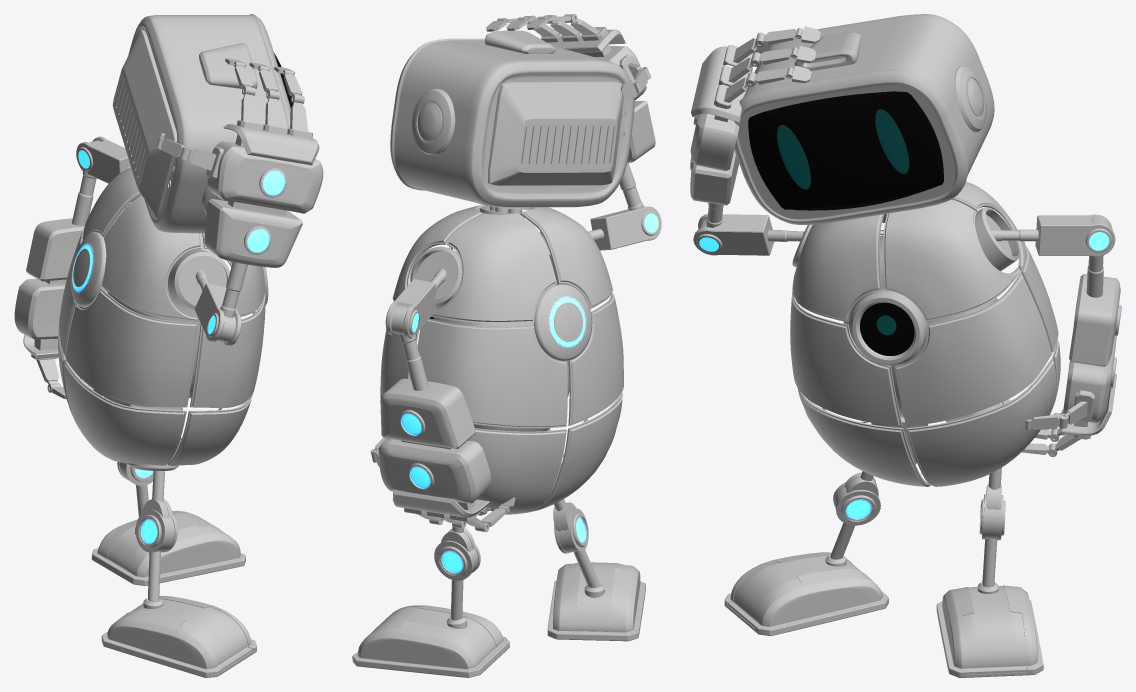
3 renders of one model, left to right at view 1: azimuth 30°, elevation 25°; view 2: azimuth 150°, elevation 25°; view 3: azimuth 270°, elevation 25°, orthographic. The views are drawn at different scales.
Parts seen in each view (by area): view 1: bodyMid, headchassis, bodyTop, bodyBottom, foot_R, headBack, foot_L, palm2_R, palm1_R, palm1_L, palm2_L, shoulder_R (+14 smaller); view 2: headchassis, bodyMid, bodyTop, headBack, bodyBottom, foot_L, foot_R, palm2_L, palm1_L, backDisk, ear_L, elbow_L (+16 smaller); view 3: bodyMid, headchassis, bodyTop, screenFace, screenBack, bodyBottom, foot_R, foot_L, chestScreen, palm1_L, elbow_L, elbow_R (+15 smaller).
Boxes of the visible parts, x1,y1,x2,y2 form: bodyMid: (59,206,265,407); headchassis: (128,14,290,233); bodyTop: (83,167,265,321); bodyBottom: (58,282,252,465); foot_R: (101,596,256,677); headBack: (112,30,177,215); foot_L: (91,510,245,585); palm2_R: (207,141,323,213); palm1_R: (204,198,302,267); palm1_L: (26,218,111,281); palm2_L: (14,278,107,339); shoulder_R: (168,249,229,309); headchassis: (390,38,634,207); bodyMid: (380,293,623,428); bodyTop: (392,204,612,323); headBack: (488,81,623,185); bodyBottom: (387,392,622,514); foot_L: (352,605,509,677); foot_R: (547,562,645,641); palm2_L: (378,438,491,503); palm1_L: (380,378,475,448); backDisk: (534,284,592,360); ear_L: (412,88,455,155); elbow_L: (386,279,435,338); bodyMid: (790,232,1058,426); headchassis: (734,14,994,224); bodyTop: (792,181,1025,322); screenFace: (749,91,943,210); screenBack: (748,91,943,209); bodyBottom: (797,338,1060,486); foot_R: (724,552,888,636); foot_L: (936,585,1043,677); chestScreen: (850,289,927,365); palm1_L: (1069,274,1120,366); elbow_L: (1035,214,1115,256); elbow_R: (693,214,774,255).
Size of the model in its own units: 0.0893 by 0.2495 by 0.1603.
